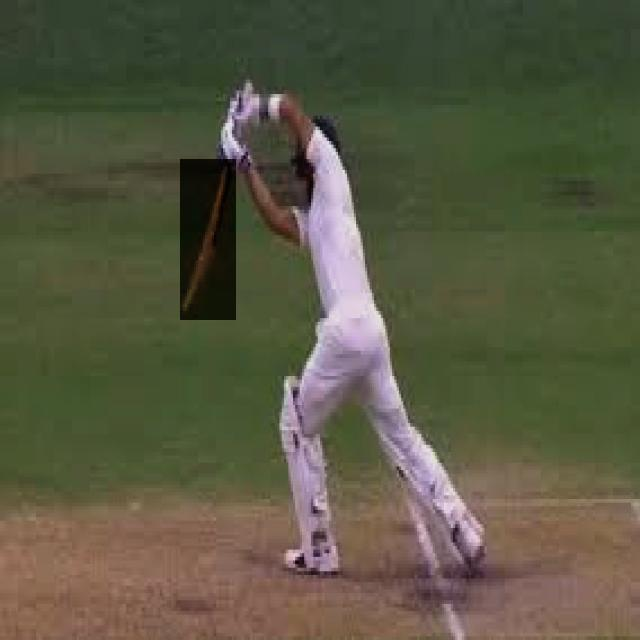bat: (184, 158, 230, 316)
